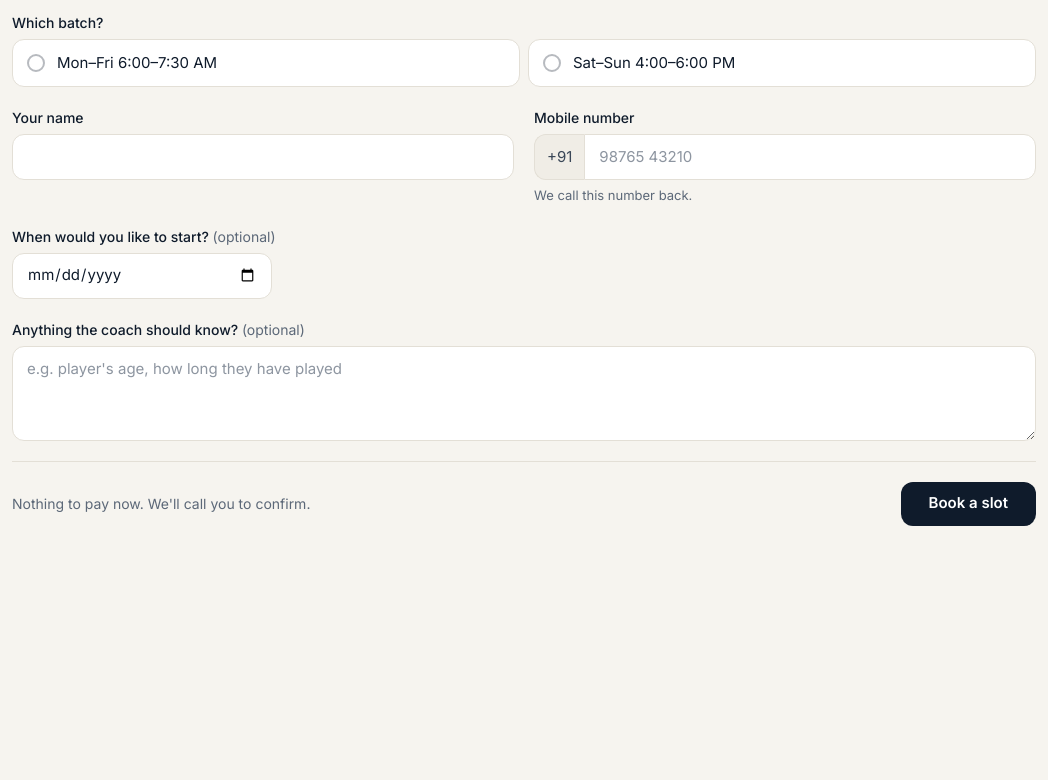
EnquiryForm › asks for a batch, a name and a valid mobile before sending
Click the button "Book a slot": (968, 504) left=900, top=482, right=1036, bottom=526
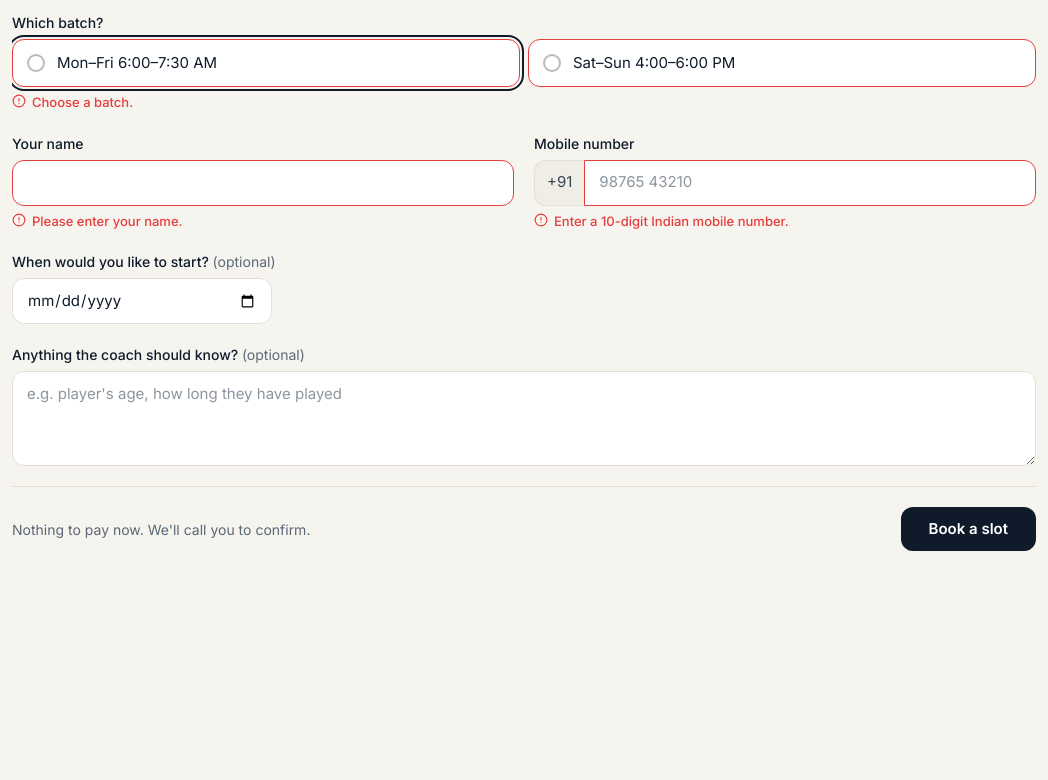
Expected: the text "Choose a batch." is shown, left=12, top=94, right=133, bottom=110
